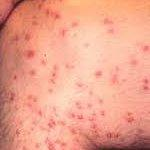Ants: (88, 112, 102, 138), (69, 124, 83, 140), (45, 138, 65, 149), (72, 80, 87, 93), (19, 31, 32, 45), (111, 66, 121, 83), (128, 56, 139, 67), (29, 68, 39, 80), (75, 101, 85, 112), (35, 108, 46, 118), (59, 26, 68, 37), (126, 112, 135, 123), (105, 131, 119, 138), (7, 91, 15, 103), (70, 112, 83, 119), (142, 78, 149, 91), (139, 44, 149, 53), (48, 119, 57, 128), (102, 16, 112, 24), (27, 94, 37, 102), (52, 65, 57, 80), (26, 50, 34, 58), (45, 7, 52, 16), (70, 20, 79, 27), (100, 110, 107, 119), (94, 70, 102, 77), (12, 32, 18, 41), (54, 13, 61, 19), (40, 58, 46, 65), (12, 74, 16, 79)
